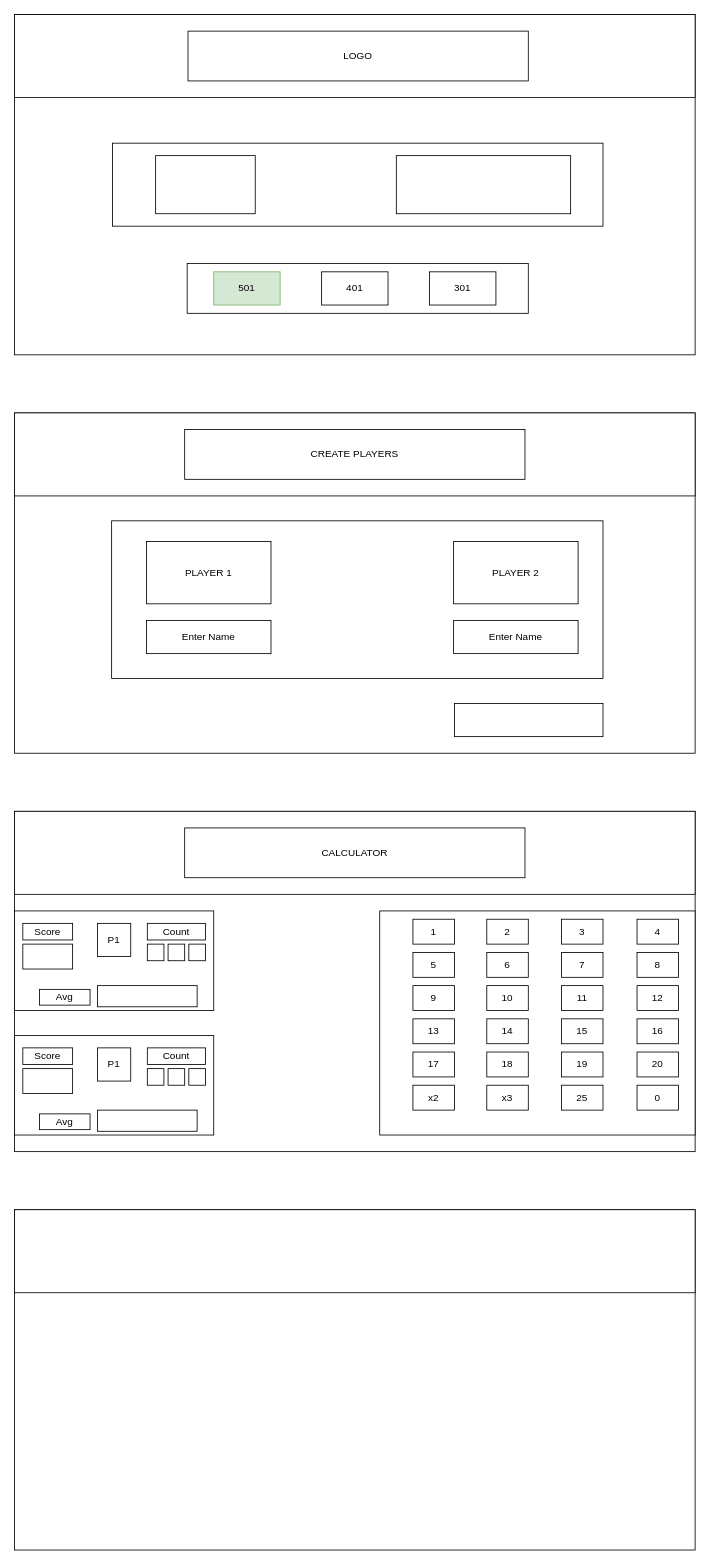
Some shapes in this 710 by 1565 pixel diagram are drawn without their labels. The box of each missing label's shape, as (x1, y1, x2, y2) in pixels:
1 V 1: (155, 155, 255, 214)
Finish: (454, 703, 603, 737)
Start Game: (395, 155, 571, 214)
